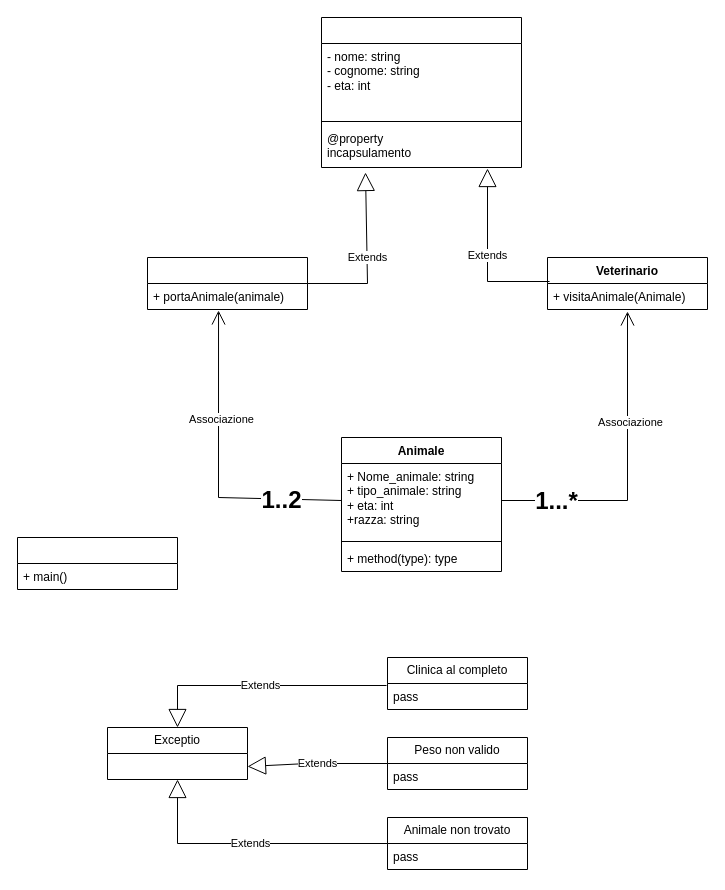
This 725x890 diagram has some shape labels left out. The box of each missing label's shape, as (x1, y1, x2, y2) in pixels:
Clinica: (16, 536, 178, 590)
Persona: (320, 16, 522, 168)
Proprietario: (146, 256, 308, 310)
